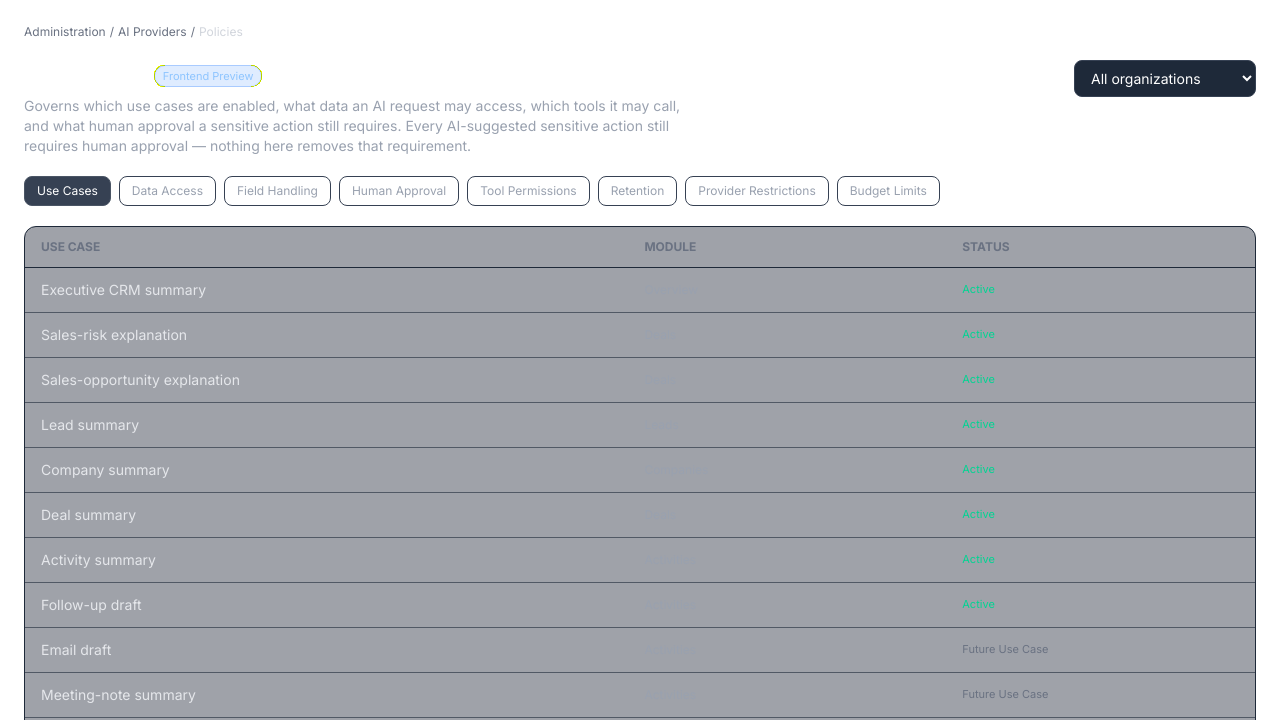
AiPolicyConfig › Retention tab shows the seeded AI Context Retention Policy
Click the tab "Retention" at coordinates (638, 191), box [598, 176, 677, 206]
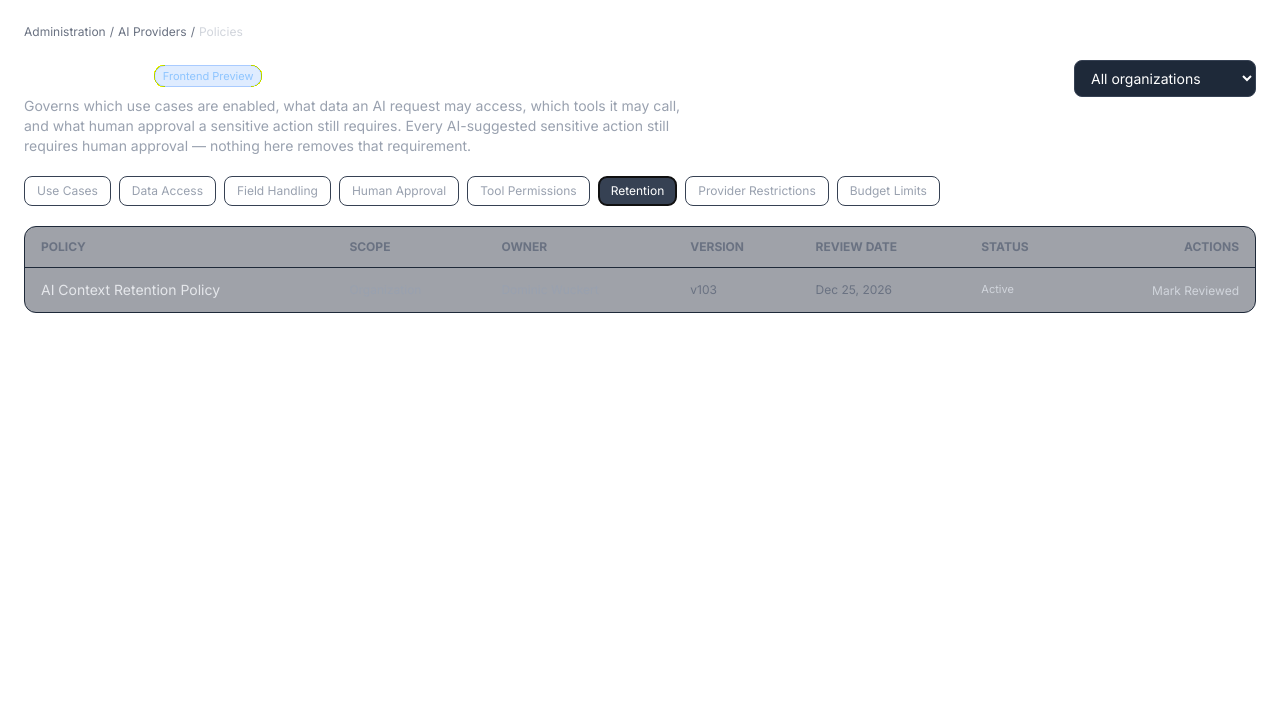
Now the text "AI Context Retention Policy" is shown, box [25, 268, 333, 312]
